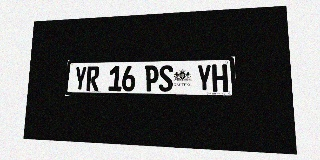1: (108, 66, 122, 91)
6: (122, 66, 135, 91)
H: (212, 64, 228, 92)
P: (145, 65, 159, 91)
R: (86, 66, 99, 91)
S: (159, 65, 173, 92)
Y: (197, 64, 212, 92), (74, 66, 87, 91)
